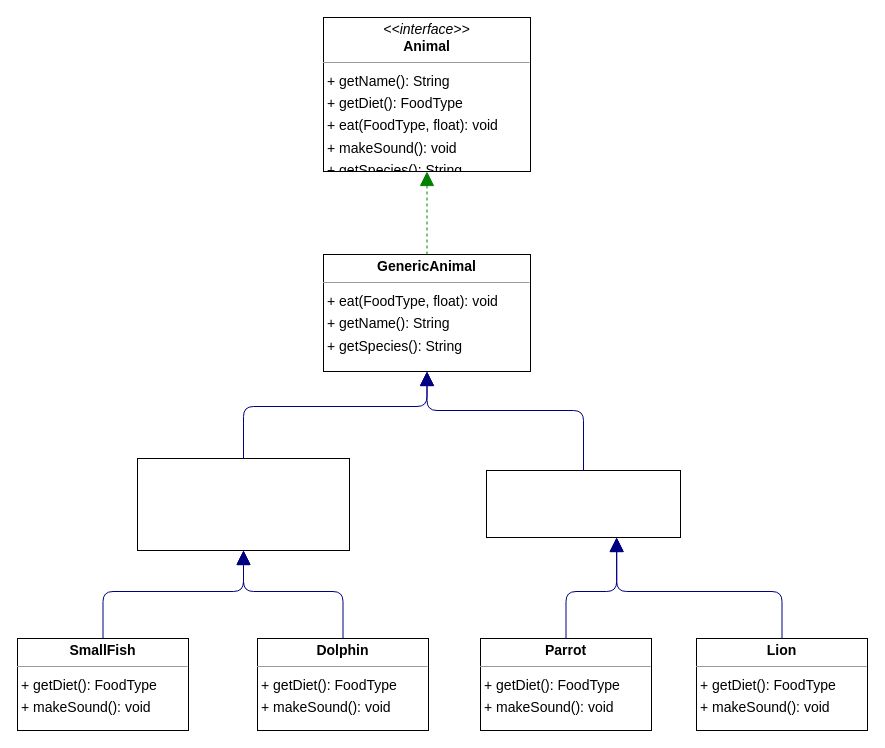
Some shapes in this 885 by 748 pixel diagram are drawn without their labels. The box of each missing label's shape, as (x1, y1, x2, y2) in pixels:
GroundAnimal + getPersonalArea(): float: (486, 470, 680, 538)
WaterAnimal + getMinimalDepth(): float + getPersonalVolume(): float: (136, 458, 350, 550)
